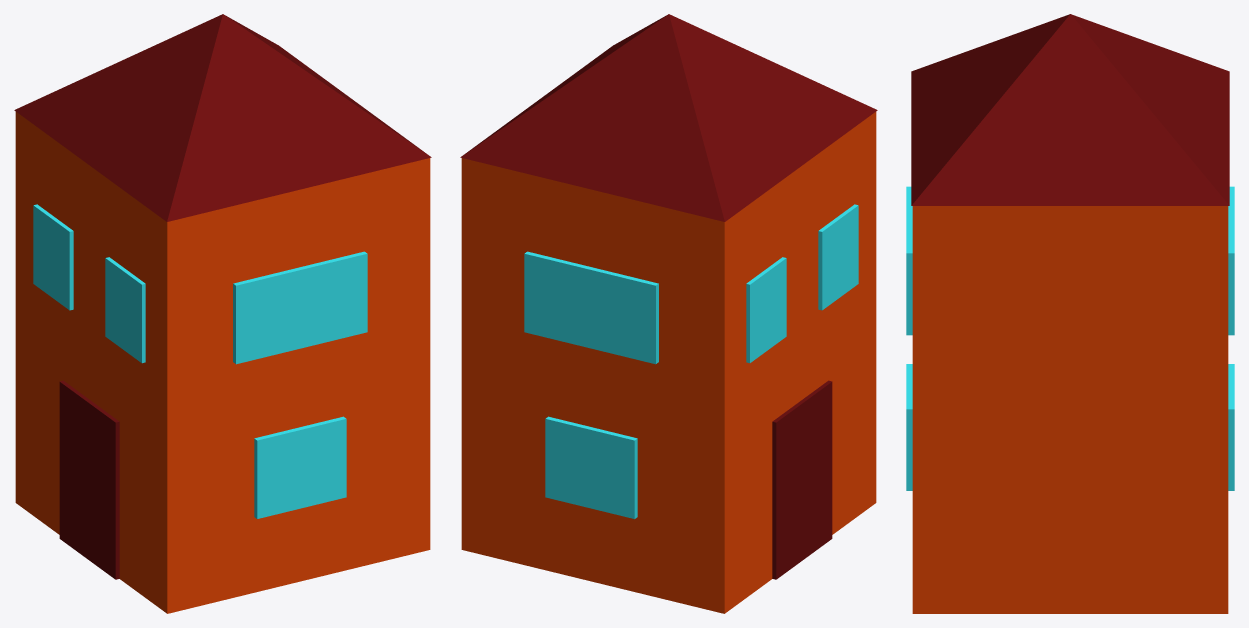
Rendered from house2.gltf.
3 renders of one model, left to right at view 1: azimuth 30°, elevation 25°; view 2: azimuth 150°, elevation 25°; view 3: azimuth 270°, elevation 25°, orthographic. The views are drawn at different scales.
Parts seen in each view (by area): view 1: house, Cone, Cube.003, door, Cube.005, Cube.002, Cube.001; view 2: house, Cone, Cube.004, door, Cube.006, Cube.001, Cube.002; view 3: house, Cone, Cube.003, Cube.004, Cube.005, Cube.006.
Boxes of the visible parts, x1,y1,x2,y2 form: house: (15, 111, 430, 613); Cone: (14, 14, 431, 221); Cube.003: (233, 251, 367, 364); door: (59, 380, 119, 579); Cube.005: (254, 416, 346, 518); Cube.002: (105, 257, 145, 363); Cube.001: (33, 204, 73, 310); house: (461, 111, 876, 613); Cone: (460, 14, 877, 221); Cube.004: (524, 251, 658, 364); door: (772, 380, 832, 579); Cube.006: (545, 416, 637, 518); Cube.001: (746, 257, 786, 363); Cube.002: (818, 204, 858, 310); house: (912, 206, 1228, 613); Cone: (911, 14, 1229, 205); Cube.003: (906, 186, 912, 335); Cube.004: (1228, 186, 1234, 335); Cube.005: (906, 364, 912, 490); Cube.006: (1228, 364, 1234, 490).
Bounding box in the file's own units: 14.26 × 26.08 × 14.55.
